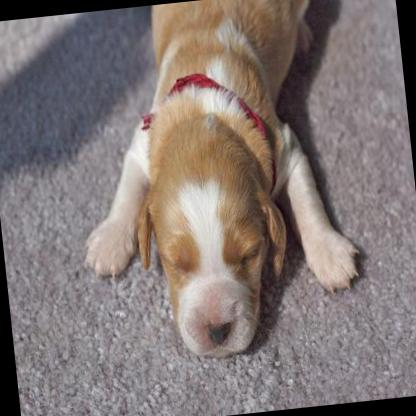Brittany_spaniel: (54, 0, 368, 371)
